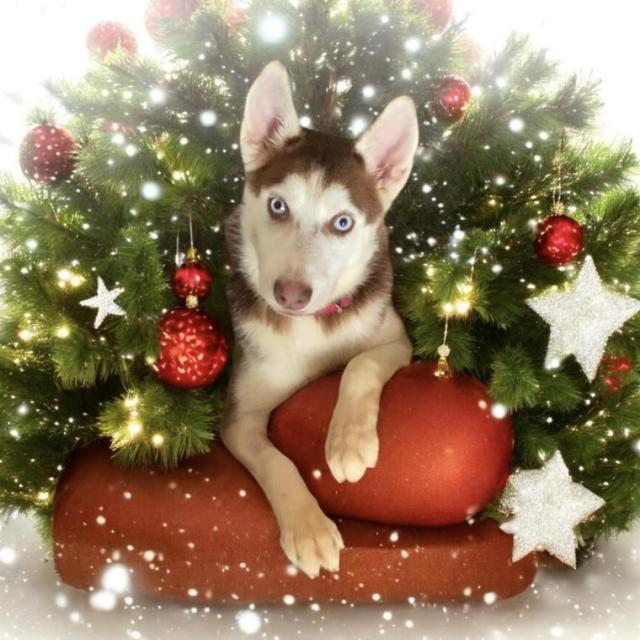siberian_husky_dog: (215, 55, 431, 333)
